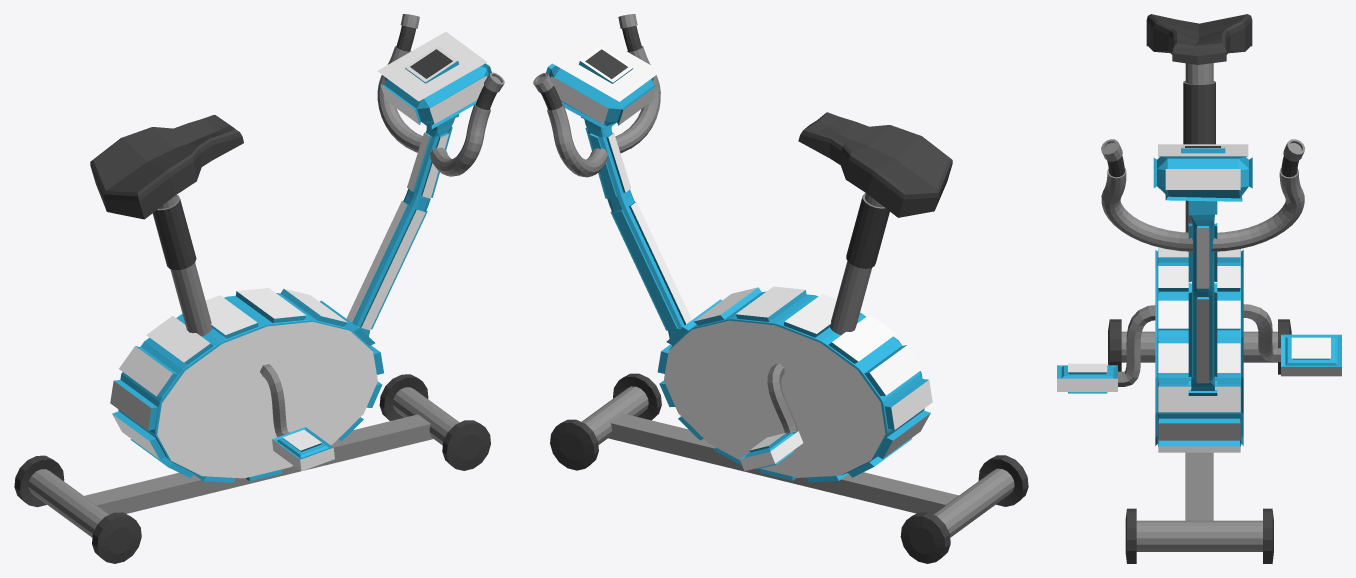
The model's file is Bycicle.fbx.
3 renders of one model, left to right at view 1: azimuth 30°, elevation 25°; view 2: azimuth 150°, elevation 25°; view 3: azimuth 270°, elevation 25°, orthographic. The views are drawn at different scales.
Visible parts, largest first — view 1: Bycicle; view 2: Bycicle; view 3: Bycicle.
Boxes of the visible parts, x1,y1,x2,y2 form: Bycicle: [14, 14, 504, 563]; Bycicle: [533, 14, 1028, 563]; Bycicle: [1057, 14, 1341, 563].
Size of the model in its own units: 550 by 492 by 295.
